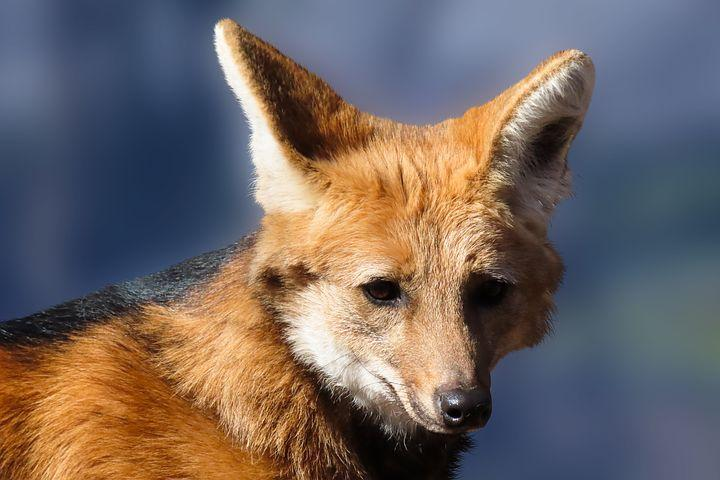fox: (3, 19, 599, 480)
